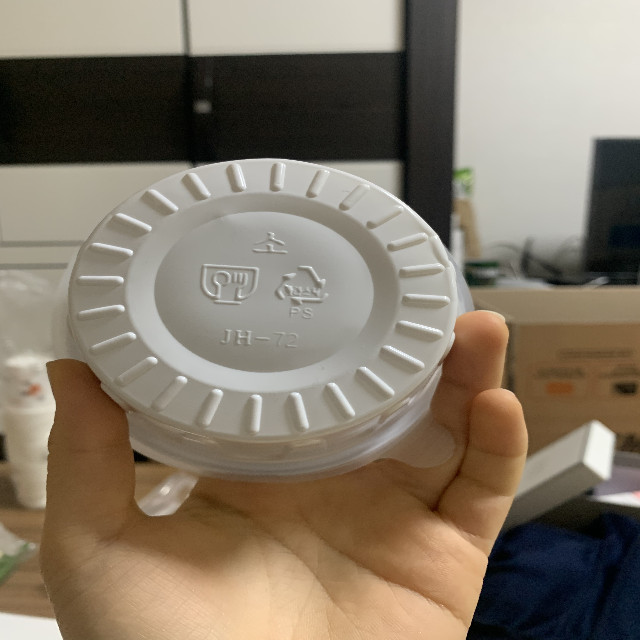ps: (274, 260, 333, 320)
